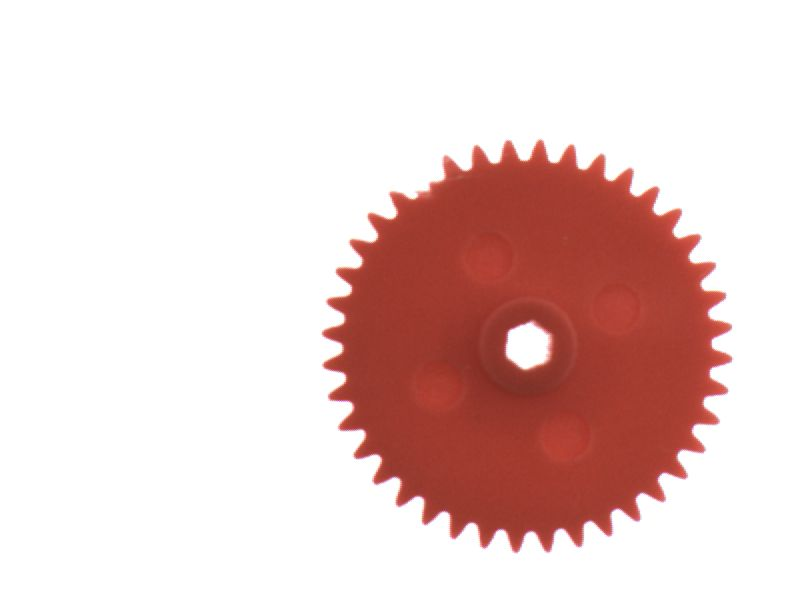defect_lack: (389, 149, 462, 213)
